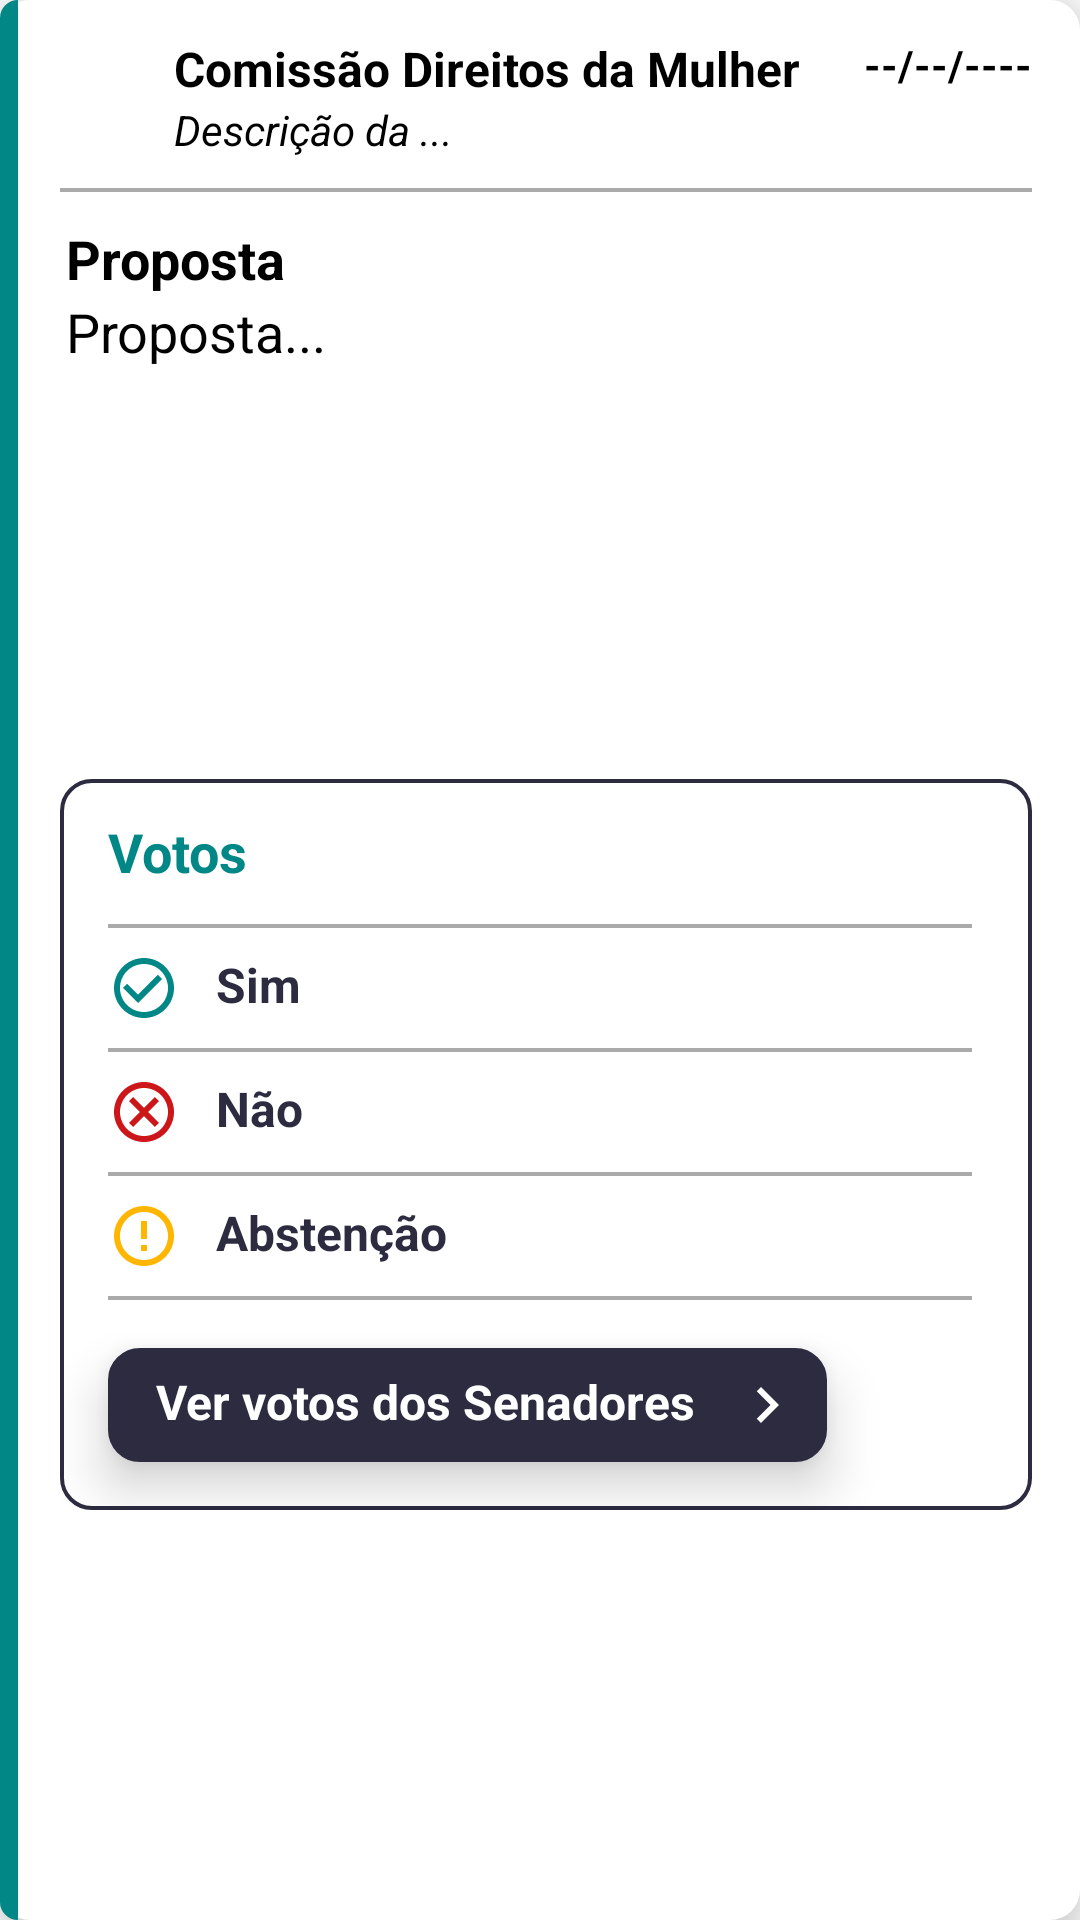

Named icons in this screenshot (1080w x 1920h) and their bounding boxes, (x1, y1, x2, y2):
atent: (114, 1206, 174, 1266)
check: (114, 958, 174, 1018)
close: (114, 1082, 174, 1142)
right set: (757, 1387, 779, 1423)
